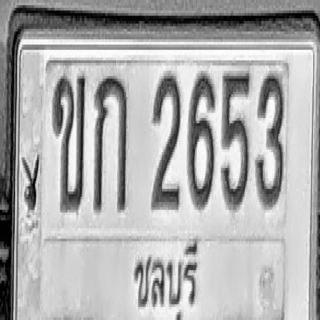A01: (94, 72, 128, 211)
A02: (52, 72, 86, 211)
N02: (152, 72, 180, 208)
N03: (256, 71, 284, 207)
N05: (222, 70, 250, 208)
N06: (188, 72, 215, 208)
P13: (126, 230, 199, 320)
